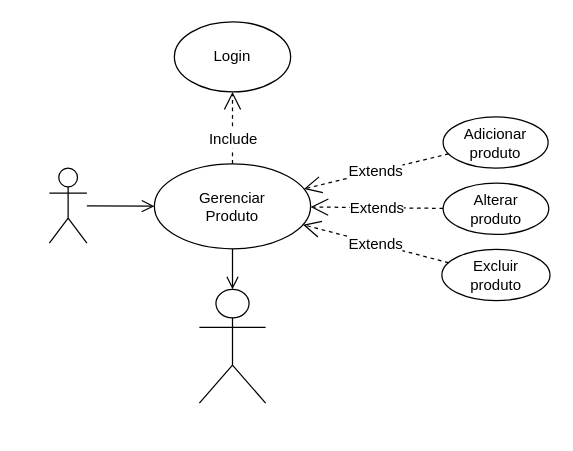
Some shapes in this 573 by 451 pixel diagram are drawn without their labels. The shapes that lost their labels are listed below. From the top down, each one's centre as x and y in pixels, then its label:
At pixel 67 205: "Administrador".
At pixel 232 345: "SGBD".
